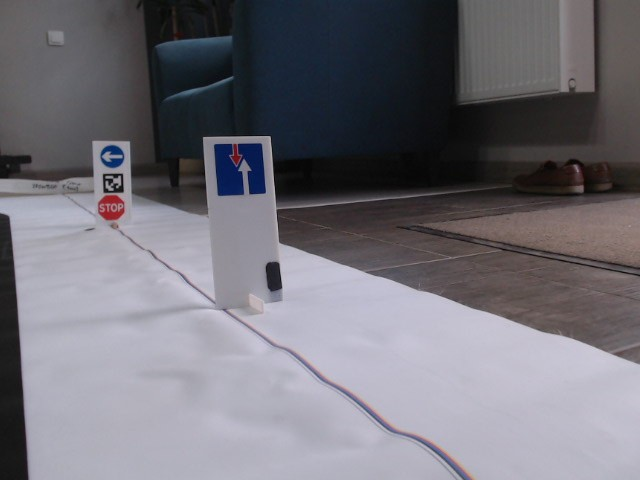Stop: (97, 194, 125, 220)
priority_movement: (212, 142, 268, 195)
